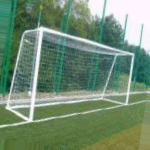goals: (6, 24, 135, 122)
